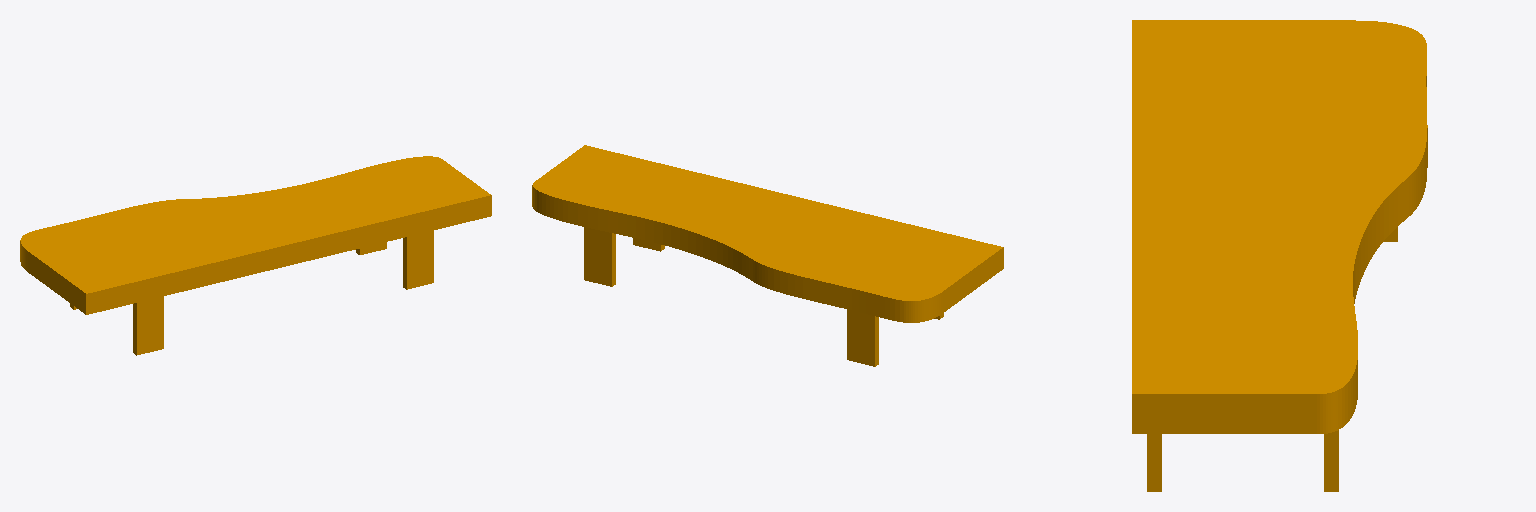
The robot description file, URDF, robot "moveable_component":
<robot name="moveable_component" xmlns:xacro="http://www.ros.org/wiki/xacro">
  <link name="moveable_component_base">
    <inertial>
      <mass value="5" />
      <origin xyz="0 0 0" />
      <inertia ixx="1" ixy="0" ixz="0" iyy="1" iyz="0" izz="1" />
    </inertial>
    <visual name="moveable_component_base_visual">
      <origin xyz="0 0 0" rpy="0 0 0" />
      <geometry>
        <mesh scale="0.001 0.001 0.001"
              filename="package://abb_robot_sandbox/meshes/moveable_component.stl" />
      </geometry>
    </visual>
    <collision name="moveable_component_base_collision">
      <origin xyz="0 0 0" rpy="0 0 0" />
      <geometry>
        <mesh scale="0.001 0.001 0.001"
              filename="package://abb_robot_sandbox/meshes/moveable_component.stl" />
      </geometry>
    </collision>
  </link>
</robot>

--- Render facts (derived) ---
3 views of the same robot in one strip: view 1: azimuth 30°, elevation 25°; view 2: azimuth 150°, elevation 25°; view 3: azimuth 270°, elevation 25° (orthographic).
Robot: moveable_component — 1 links, 0 joints (none); root link moveable_component_base; default pose: every joint at zero.
Links seen in each view (by area): view 1: moveable_component_base; view 2: moveable_component_base; view 3: moveable_component_base.
Boxes of the visible links, x1=… form: moveable_component_base: x1=20, y1=156, x2=491, y2=355; moveable_component_base: x1=532, y1=145, x2=1003, y2=366; moveable_component_base: x1=1132, y1=20, x2=1427, y2=491.
Size in the robot's own frame: 0.3 by 0.1001 by 0.055 metres.
1 mesh visuals loaded from 1 distinct referenced files (1 binary STL).